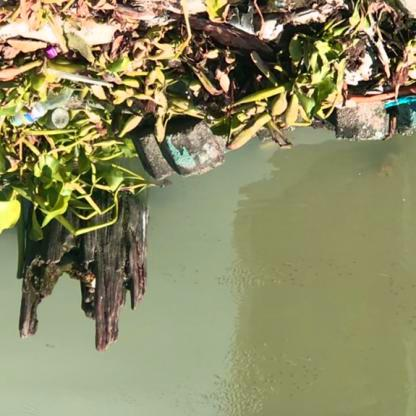Plastic: (3, 100, 50, 132), (48, 112, 76, 133)
